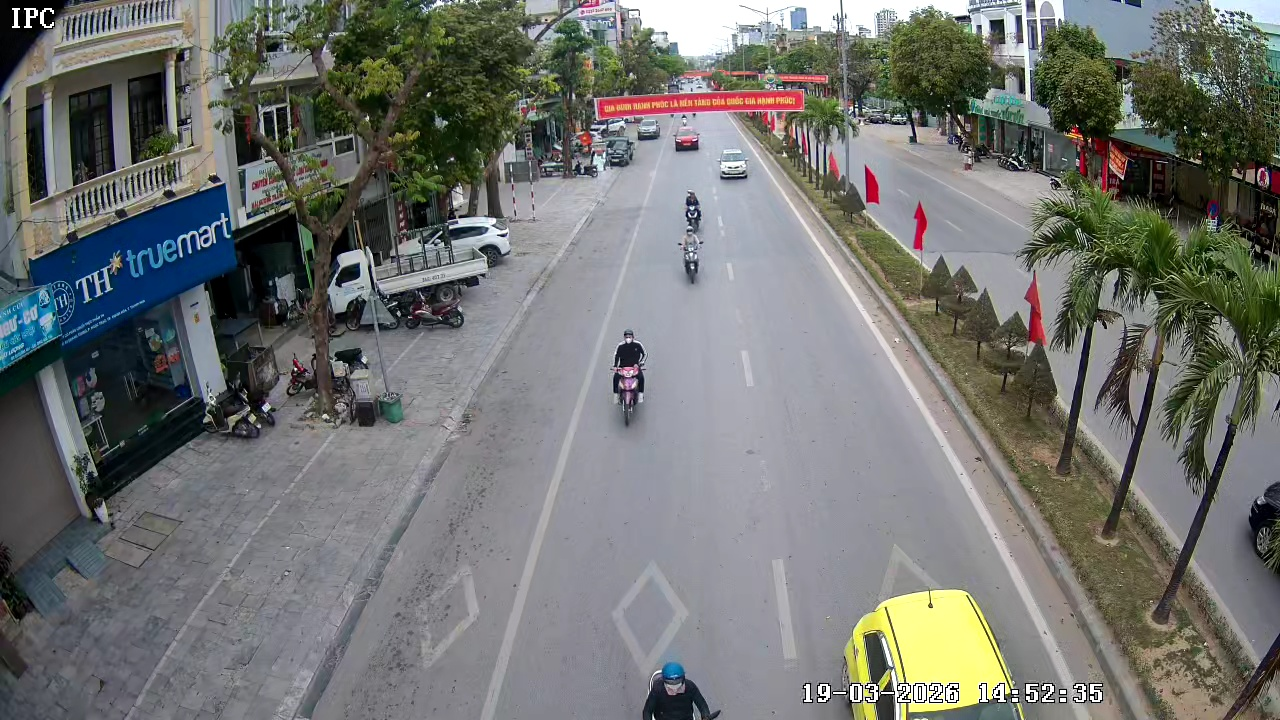car: (717, 146, 751, 180), (672, 126, 702, 152)
exception: (638, 660, 724, 719)
motorbike: (607, 327, 650, 428), (676, 224, 705, 286), (682, 188, 703, 232)
